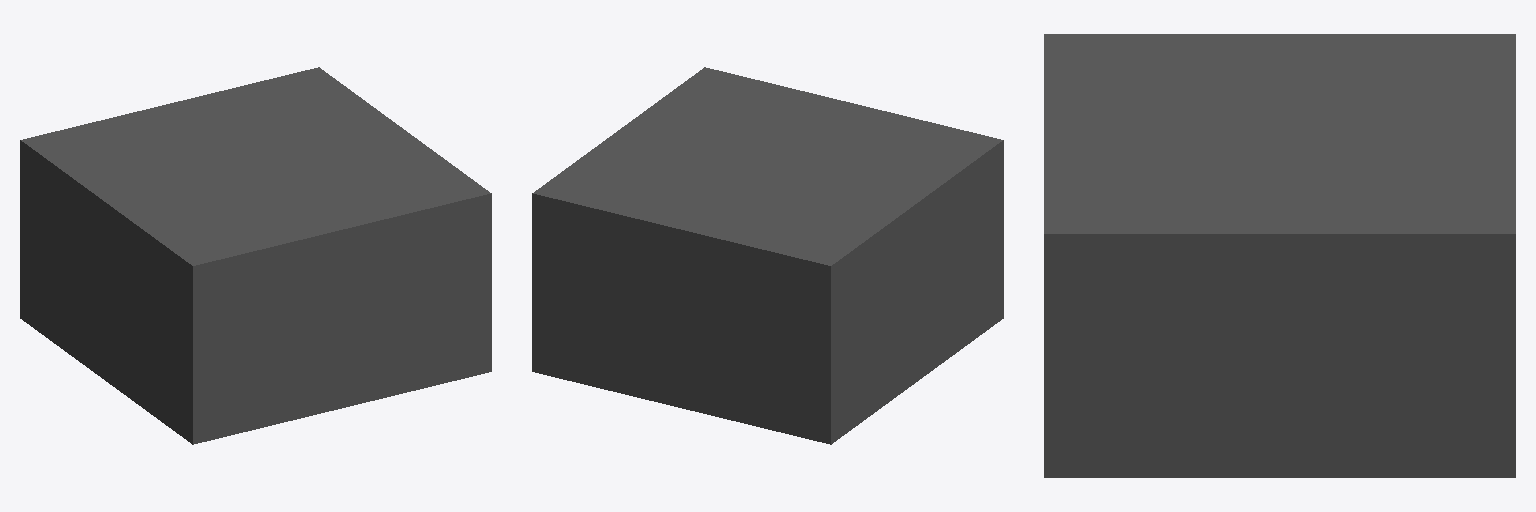
URDF robot description (simple_table):
<?xml version="1.0"?>
<robot name="simple_table">

	<material name="dark">
		<color rgba="0.4 0.4 0.4 1"/>
	</material>

	<link name="base_link">
		<visual>
			<geometry>
				<box size="1.4 1.4 0.8"/>
			</geometry>
			<material name="dark"/>
		</visual>
		<collision>
			<geometry>
				<box size="1.4 1.4 0.8"/>
			</geometry>
		</collision>
	</link>
</robot>

--- Render facts (derived) ---
Views: 3 orthographic renders of the robot side by side, from view 1: azimuth 30°, elevation 25°; view 2: azimuth 150°, elevation 25°; view 3: azimuth 270°, elevation 25°.
Model simple_table with 1 links and 0 joints (none), rooted at base_link, posed all joints at 0.
Links seen in each view (by area): view 1: base_link; view 2: base_link; view 3: base_link.
Boxes of the visible links, bbox=[...] form: base_link: bbox=[20, 67, 491, 444]; base_link: bbox=[532, 67, 1003, 444]; base_link: bbox=[1044, 34, 1515, 477].
Size in the robot's own frame: 1.4 by 1.4 by 0.8 metres.
Geometry: primitives only (box / cylinder / sphere), no mesh files.